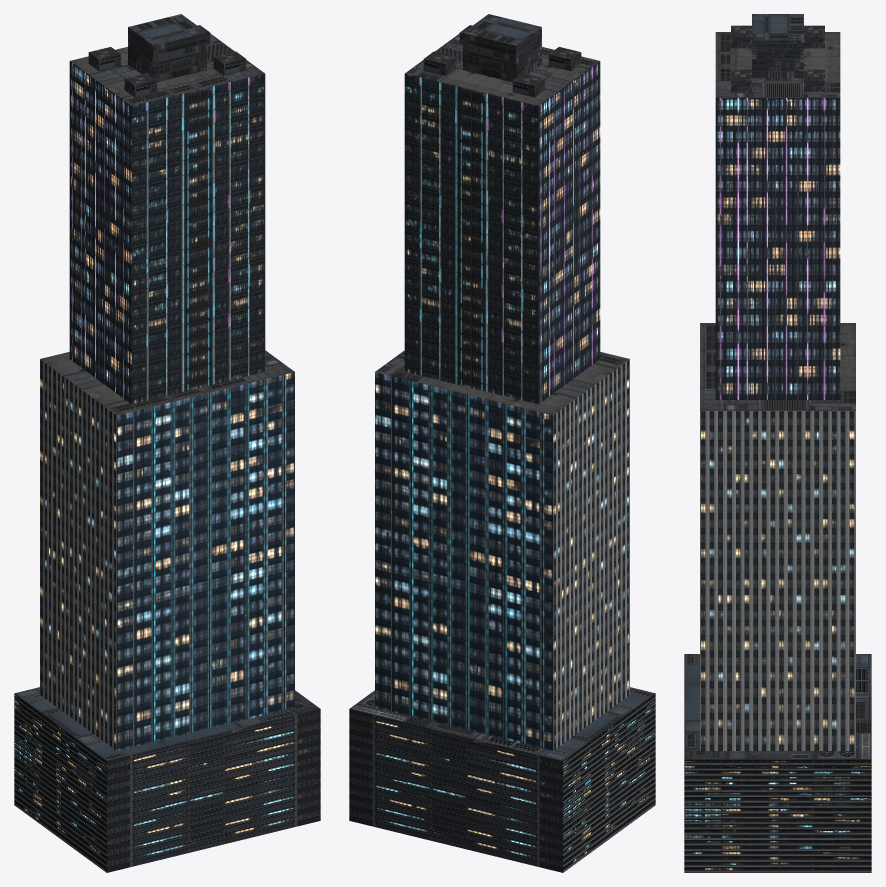
The model's file is commercial-pilot-01.glb.
3 views of the same model, side by side, from view 1: azimuth 30°, elevation 25°; view 2: azimuth 150°, elevation 25°; view 3: azimuth 270°, elevation 25° (orthographic).
Visible parts, largest first — view 1: commercial-pilot-01; view 2: commercial-pilot-01; view 3: commercial-pilot-01.
Boxes of the visible parts, x1=… form: commercial-pilot-01: x1=14, y1=14, x2=320, y2=872; commercial-pilot-01: x1=349, y1=14, x2=655, y2=872; commercial-pilot-01: x1=684, y1=14, x2=871, y2=872.
Bounding box in the file's own units: 48 × 168 × 36.
Materials: 1 (1 with a texture image).
